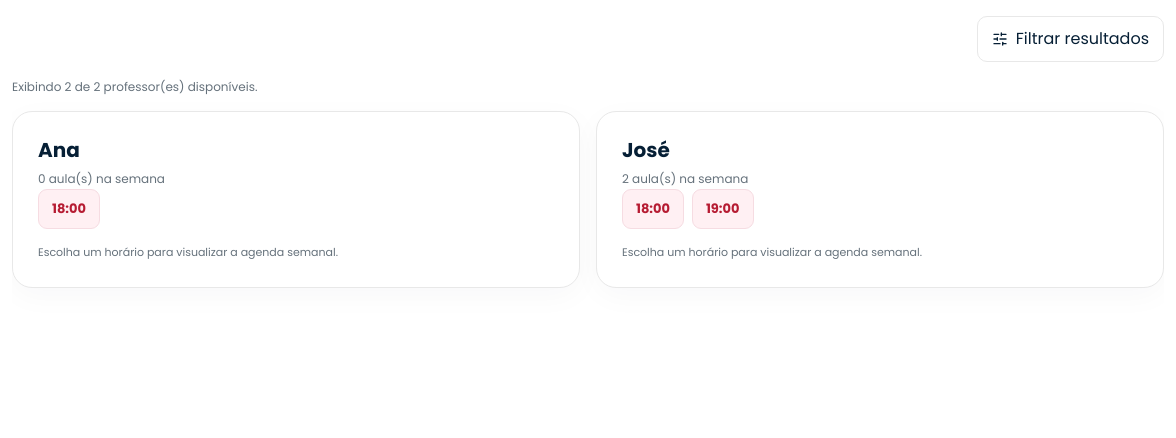
Scenario: filtra por horário e nome, mostra ausência de correspondência e limpa os filtros
Click the button "Filtrar resultados" at (1070, 39), box x1=977 y1=16 x2=1164 y2=62
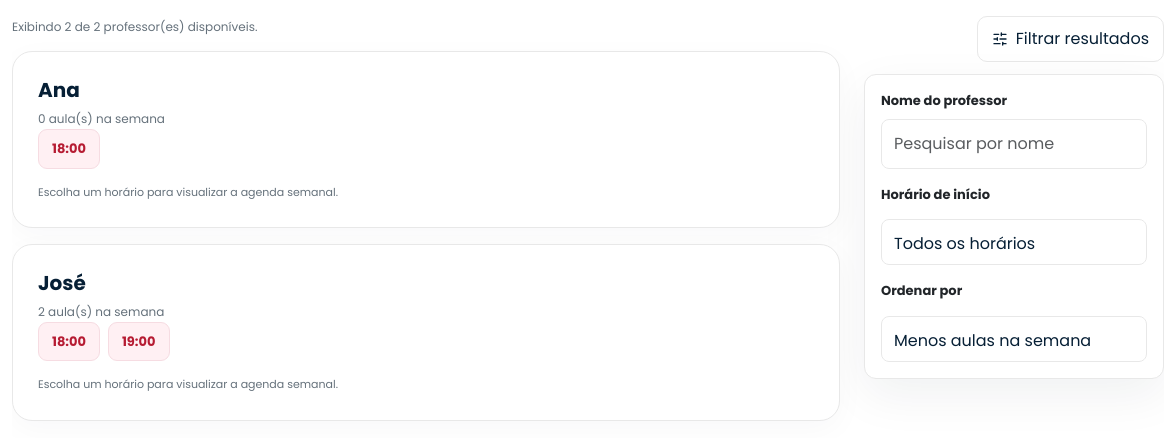
Select "19:00 · 1 professor(es)" in the dropdown labelled "Horário de início" at (1014, 242), box x1=881 y1=219 x2=1147 y2=265
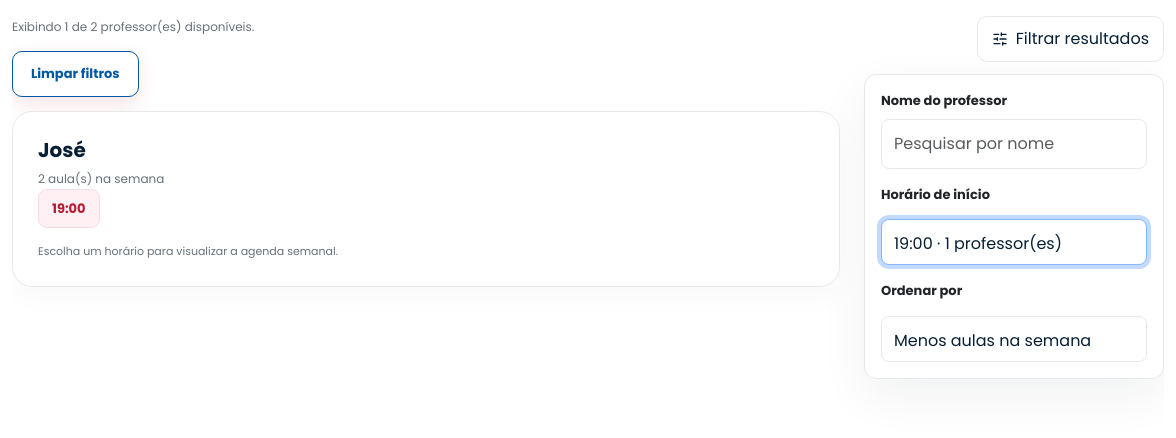
Expected: the heading "José" is shown, x1=38 y1=136 x2=86 y2=164
Type "Ana" into the search field at (1014, 144), box x1=881 y1=118 x2=1147 y2=168
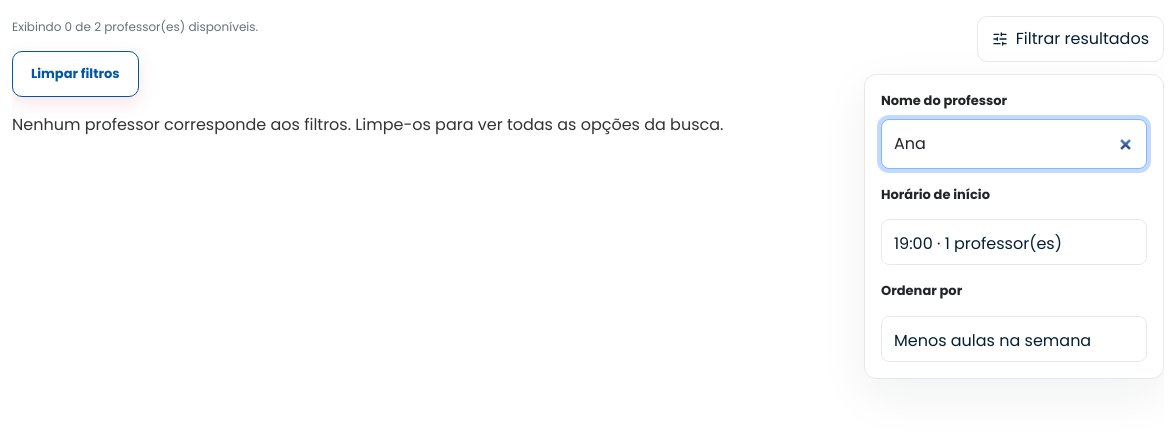
Expected: the message named "Contagem dos resultados filtrados" shows "Exibindo 0 de 2", x1=12 y1=16 x2=258 y2=37
Click the button "Limpar filtros" at (75, 74), box x1=12 y1=51 x2=138 y2=96
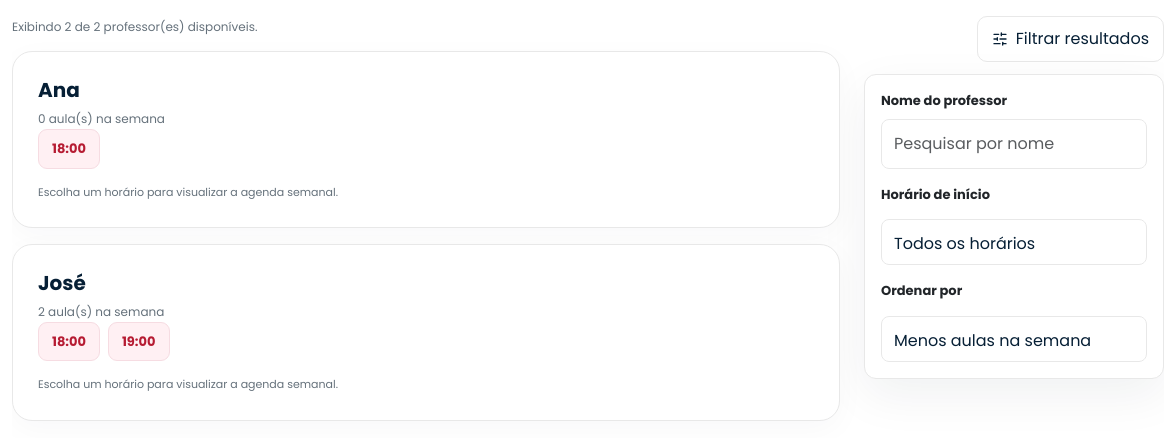
Expected: the heading "Ana" is shown, x1=38 y1=76 x2=80 y2=104
Expected: the message named "Contagem dos resultados filtrados" shows "Exibindo 2 de 2", x1=12 y1=16 x2=257 y2=37
